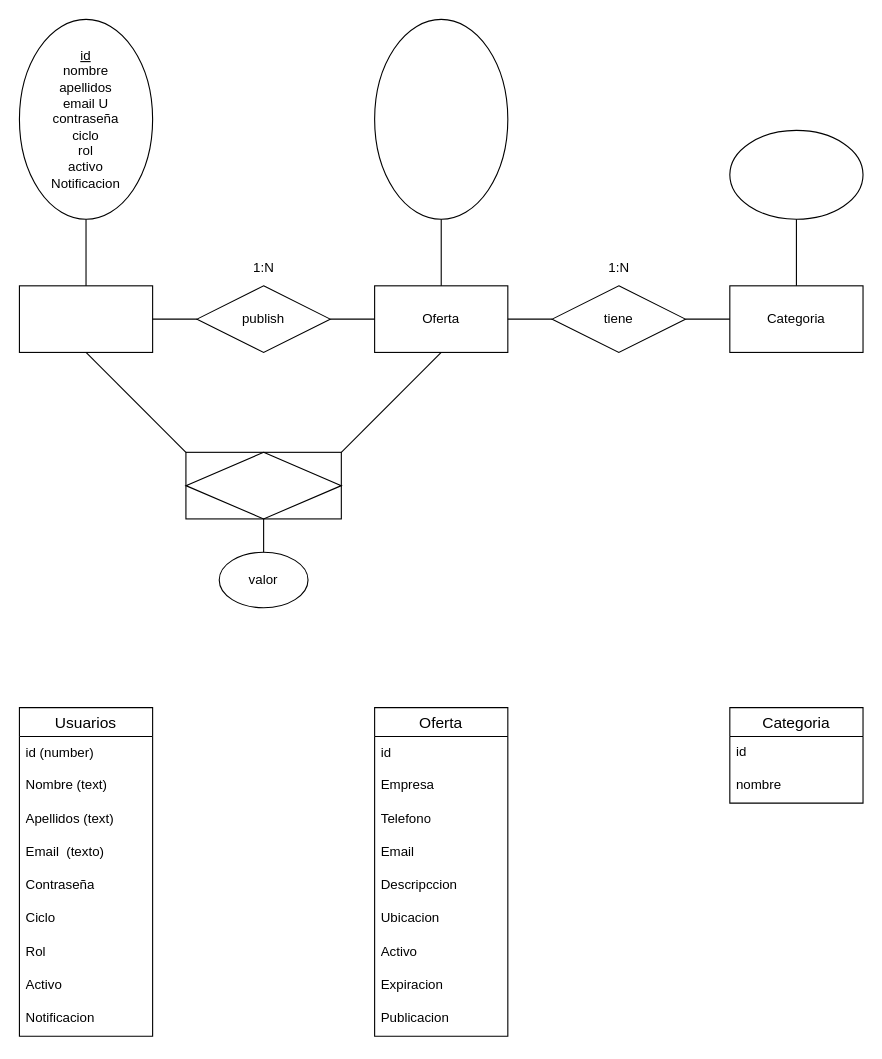
The diagram is 882 pixels wide and 1059 high, and some of its shapes have lost their labels. Here are the shapes that lost their labels. From the top down, the centre of each, then its label:
At point (441, 118): "id empresa email telefono descripcion ubicacion activo expiracion publicacion".
At point (796, 174): "id nombre".
At point (85, 318): "Usuario".
At point (263, 485): "Valoracion".
